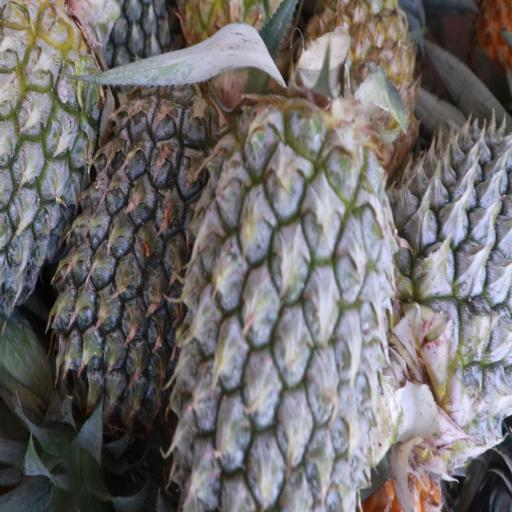Pineapple - v8 v1: (305, 0, 418, 161)
